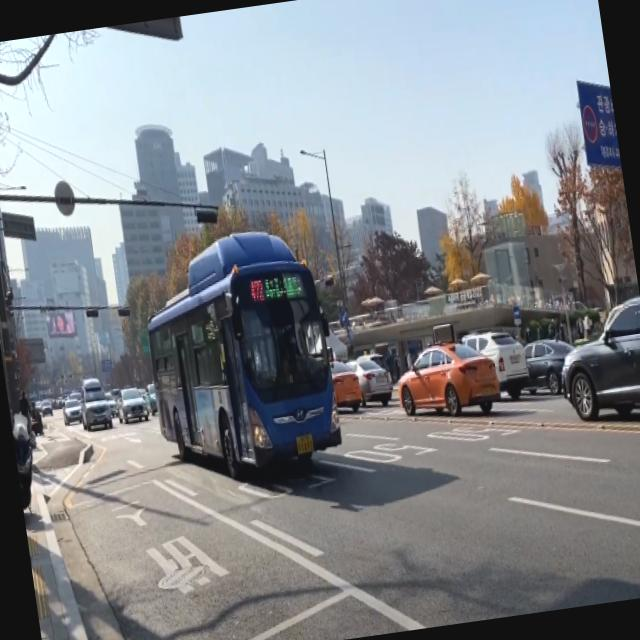bus-number: (248, 278, 266, 305)
